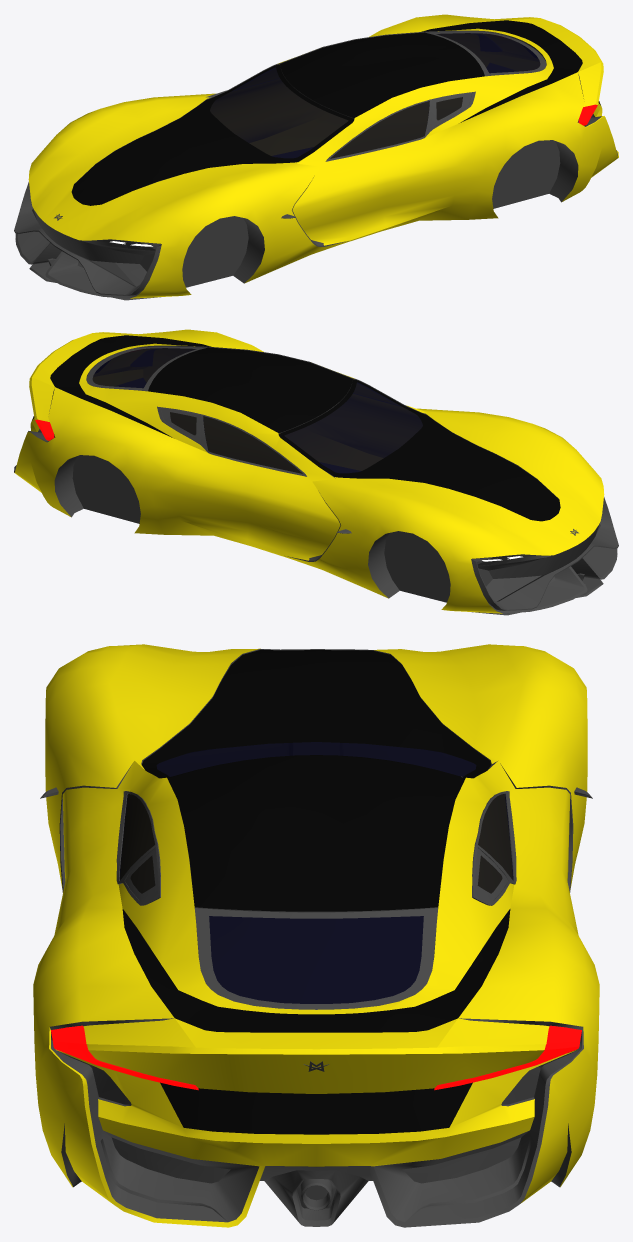
File: Car_test_YB.glb
3 renders of one model, top to bottom at view 1: azimuth 30°, elevation 25°; view 2: azimuth 150°, elevation 25°; view 3: azimuth 270°, elevation 25°, orthographic. The views are drawn at different scales.
Parts seen in each view (by area): view 1: 3DGeom-004, 3DGeom-005, 3DGeom-009, 3DGeom-006; view 2: 3DGeom-004, 3DGeom-005, 3DGeom-009, 3DGeom-006; view 3: 3DGeom-004, 3DGeom-005, 3DGeom-009, 3DGeom-006, 3DGeom-008.
Boxes of the visible parts, box(x1,y1,x2,y2) form: 3DGeom-004: box(28, 14, 618, 298); 3DGeom-005: box(71, 20, 600, 205); 3DGeom-009: box(14, 30, 617, 300); 3DGeom-006: box(210, 33, 540, 158); 3DGeom-004: box(14, 329, 604, 613); 3DGeom-005: box(32, 335, 560, 521); 3DGeom-009: box(14, 345, 618, 615); 3DGeom-006: box(92, 348, 422, 473); 3DGeom-004: box(33, 644, 599, 1227); 3DGeom-005: box(122, 649, 510, 1134); 3DGeom-009: box(40, 649, 592, 1227); 3DGeom-006: box(119, 742, 513, 1003); 3DGeom-008: box(51, 1025, 581, 1090).
Bounding box in the file's own units: 7.27 × 1.73 × 3.27.
